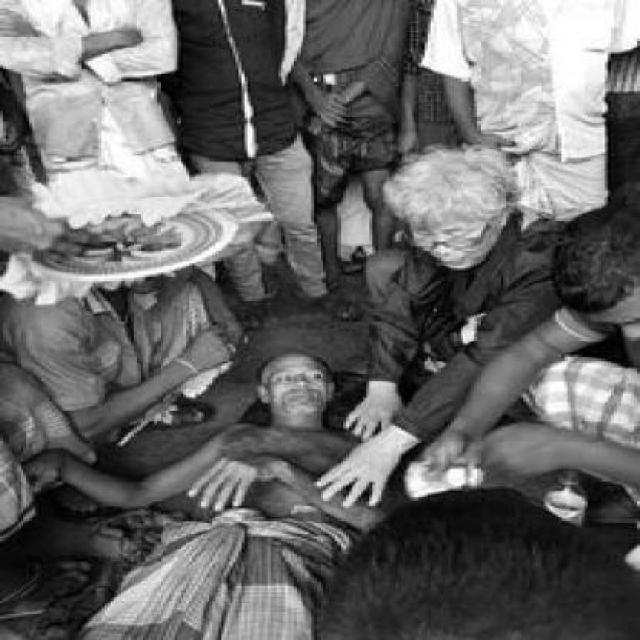fall: (26, 326, 399, 639)
